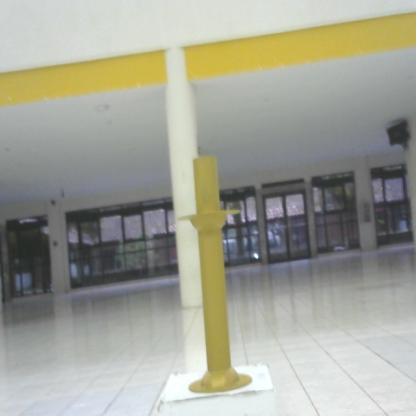pole: (177, 149, 258, 405)
